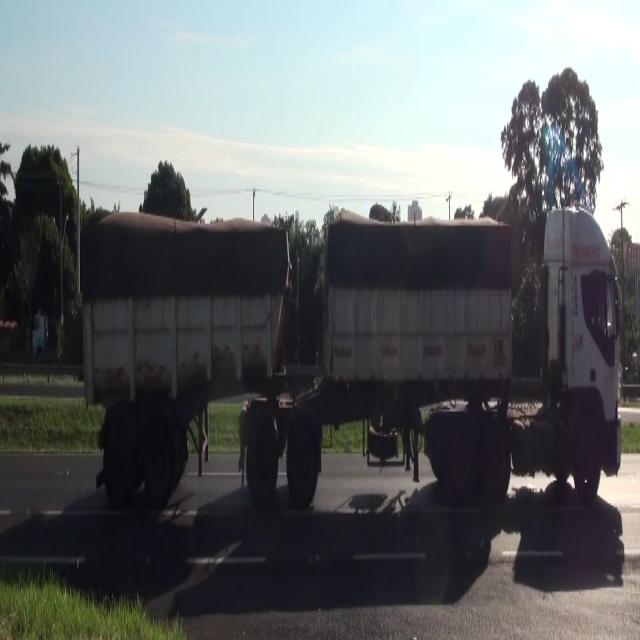-axle: (445, 412, 480, 515), (284, 409, 320, 504), (482, 422, 518, 516), (569, 405, 602, 505), (245, 413, 282, 502), (141, 418, 179, 498), (103, 418, 138, 494)
